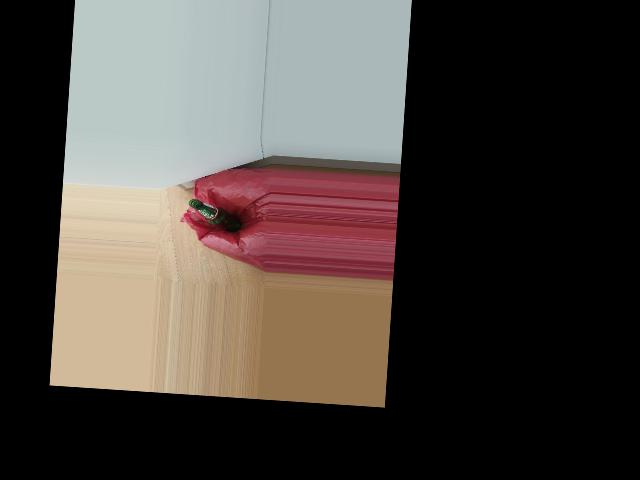beer: (187, 199, 242, 232)
